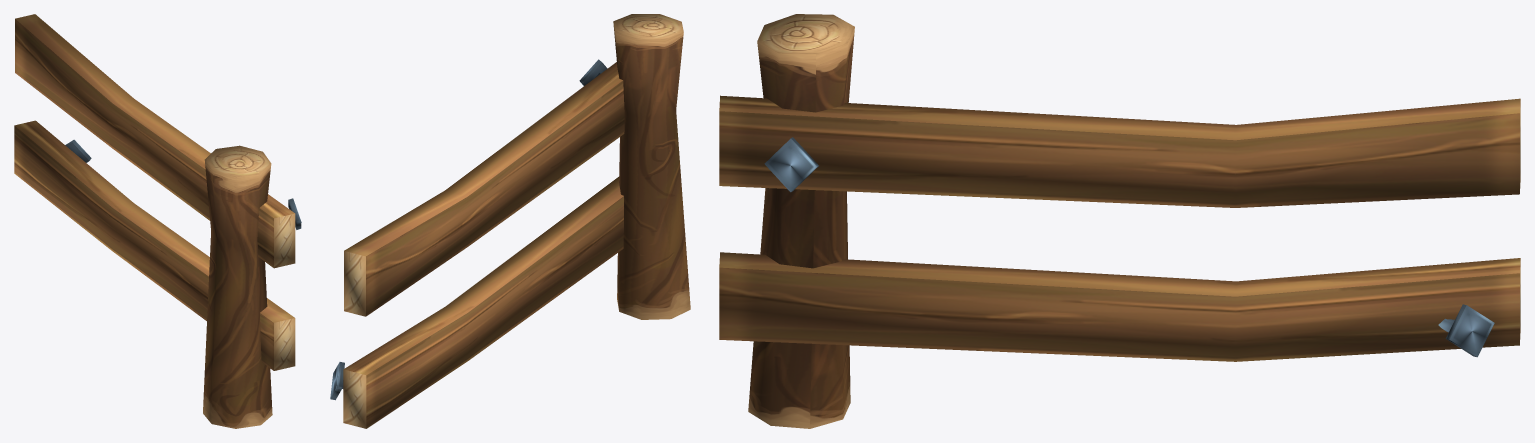
Rendered from fence_04.fbx.
3 views of the same model, side by side, from view 1: azimuth 30°, elevation 25°; view 2: azimuth 150°, elevation 25°; view 3: azimuth 270°, elevation 25° (orthographic). The views are drawn at different scales.
Parts seen in each view (by area): view 1: fence_04; view 2: fence_04; view 3: fence_04.
Part boxes in pixels (bbox=[...]): fence_04: bbox=[14, 14, 301, 428]; fence_04: bbox=[330, 14, 690, 428]; fence_04: bbox=[719, 14, 1520, 428].
Size of the model in its own units: 0.9964 by 2.39 by 4.59.
